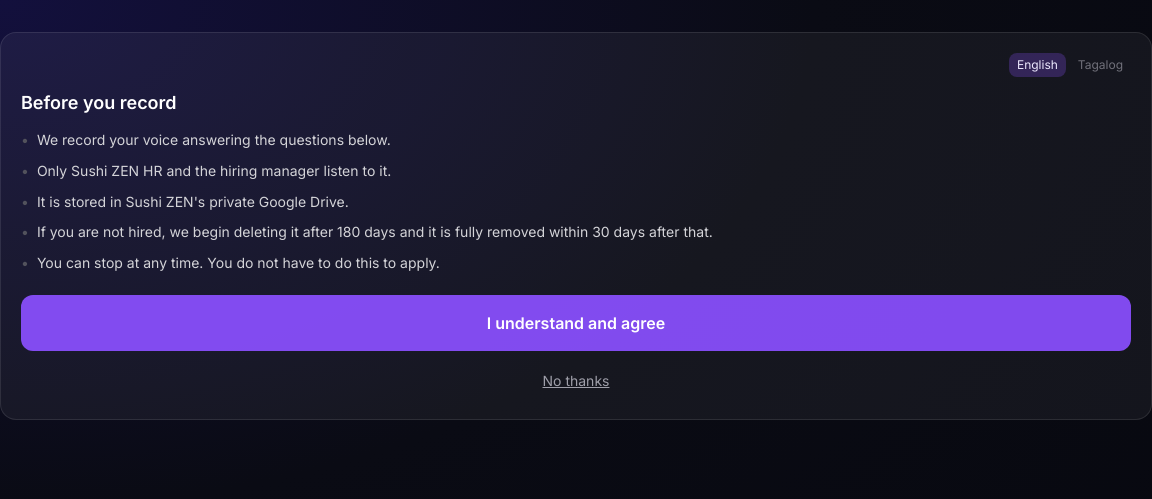
Scenario: agreeing while the API is restarting › goes through when they press it again after the API is back
Click the button "I understand and agree". click: (576, 323)
box: [21, 295, 1131, 351]
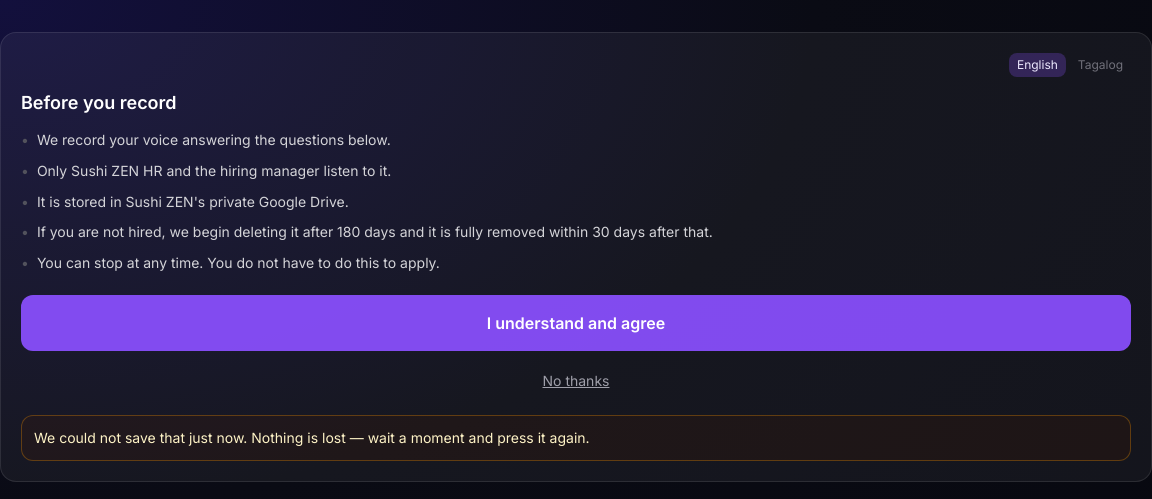
Check: the text "Nothing is lost" is shown, box [34, 429, 590, 446]
Click the button "I understand and agree". click: (576, 323)
box: [21, 295, 1131, 351]
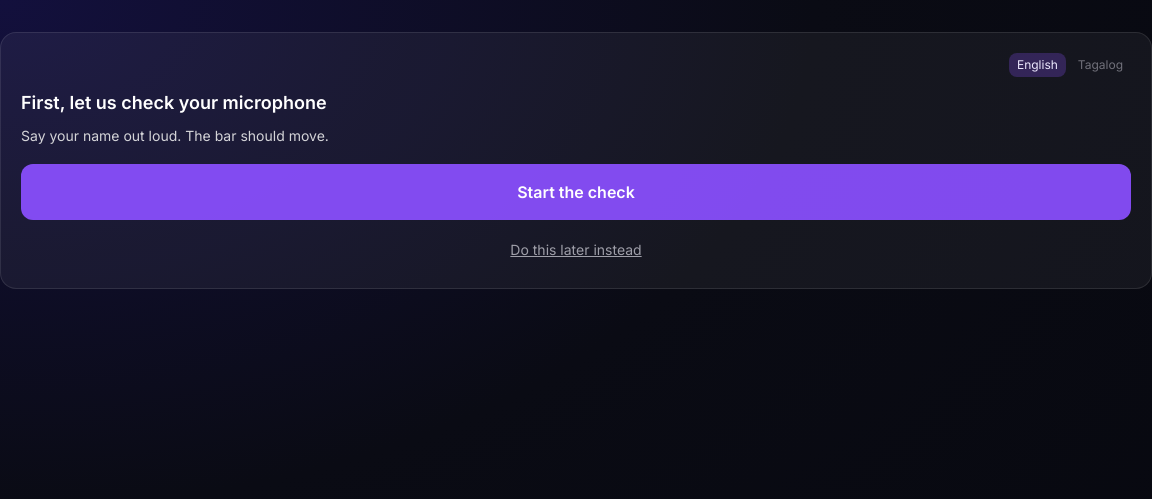
Check: the button "Start the check" is shown, box [21, 164, 1131, 220]
